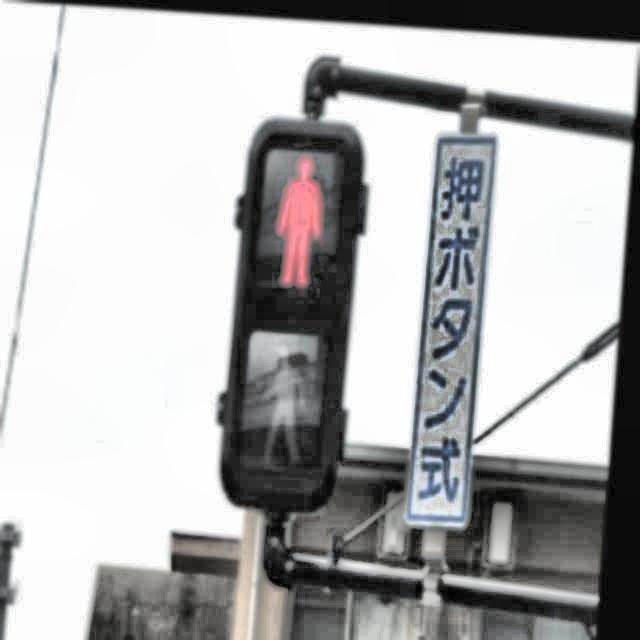semaforo pedestre: (134, 40, 528, 566)
